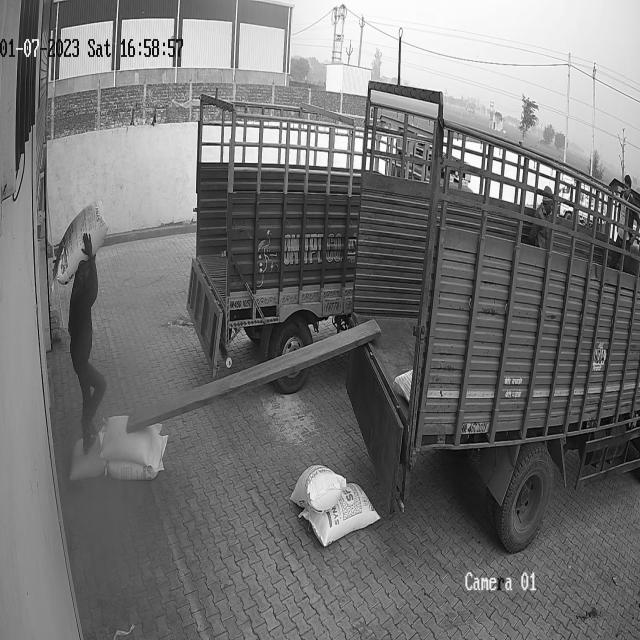sack: (298, 482, 380, 545), (52, 197, 108, 284), (99, 416, 161, 464), (290, 464, 345, 514), (105, 435, 167, 478), (68, 430, 106, 481)
